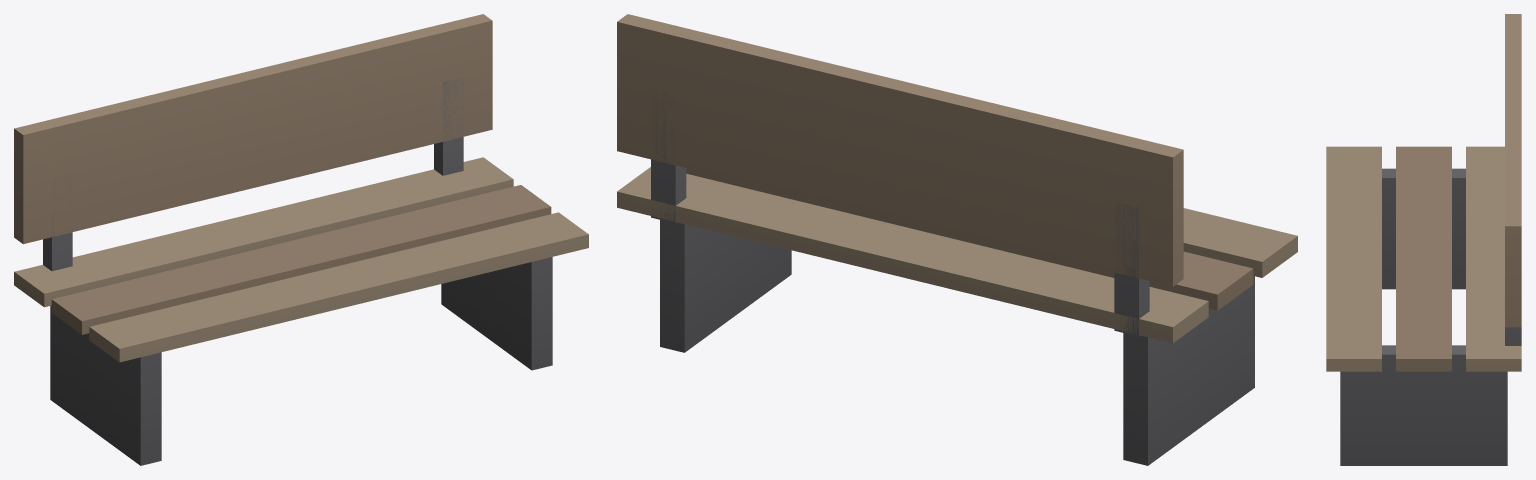
The model's file is sv_bench.glb.
3 views of the same model, side by side, from view 1: azimuth 30°, elevation 25°; view 2: azimuth 150°, elevation 25°; view 3: azimuth 270°, elevation 25° (orthographic). The views are drawn at different scales.
Parts seen in each view (by area): view 1: sv_bench; view 2: sv_bench; view 3: sv_bench.
Boxes of the visible parts, x1,y1,x2,y2 form: sv_bench: [14, 14, 588, 465]; sv_bench: [617, 14, 1297, 465]; sv_bench: [1326, 14, 1521, 465].
Size of the model in its own units: 1.8 by 1 by 0.7.
